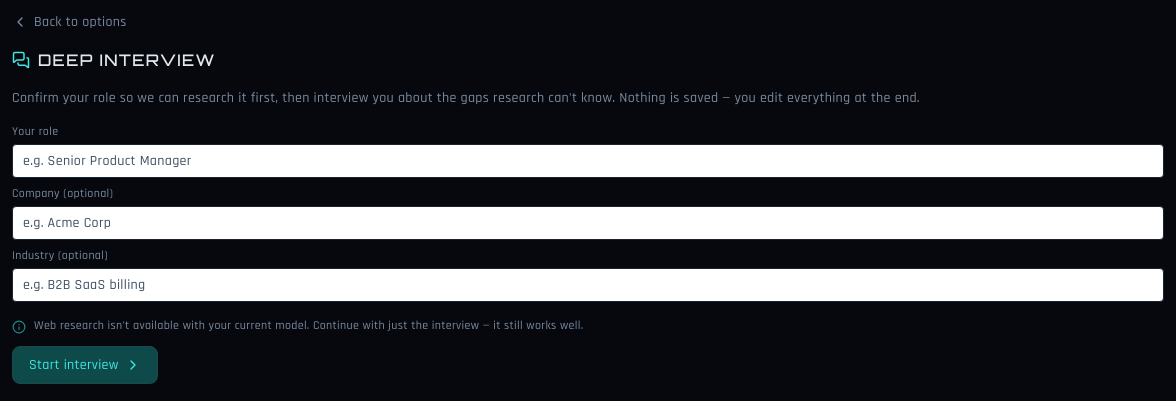
Scenario: DeepInterviewPanel — role input (step 1) › offers no research and only an interview path when the model is not frontier
expect the field labelled "Your role" is shown: met, box [12,144,1164,178]
expect the text "Web research isn't available" is shown: met, box [34,318,583,333]
Click the button "Start interview".
click(85, 365)  # box [12,346,158,384]
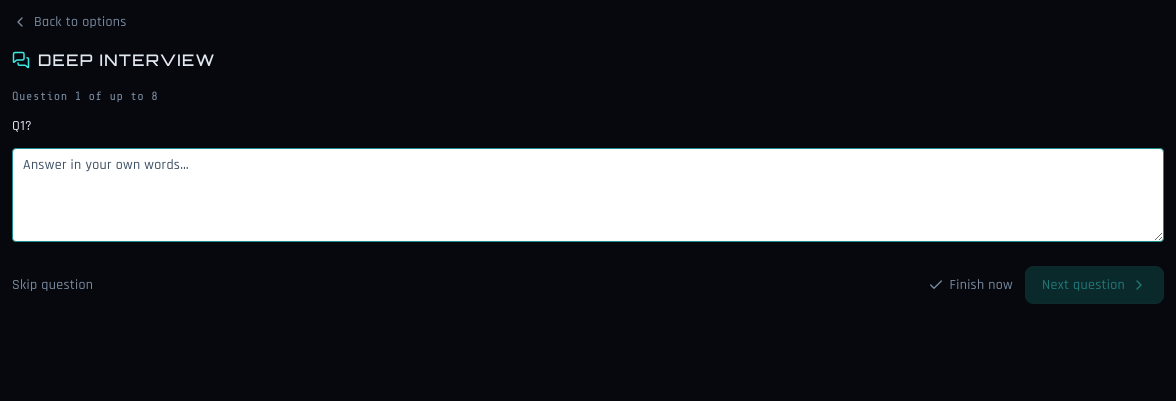
expect the text "Q1?" is shown: met, box [12,117,32,135]
